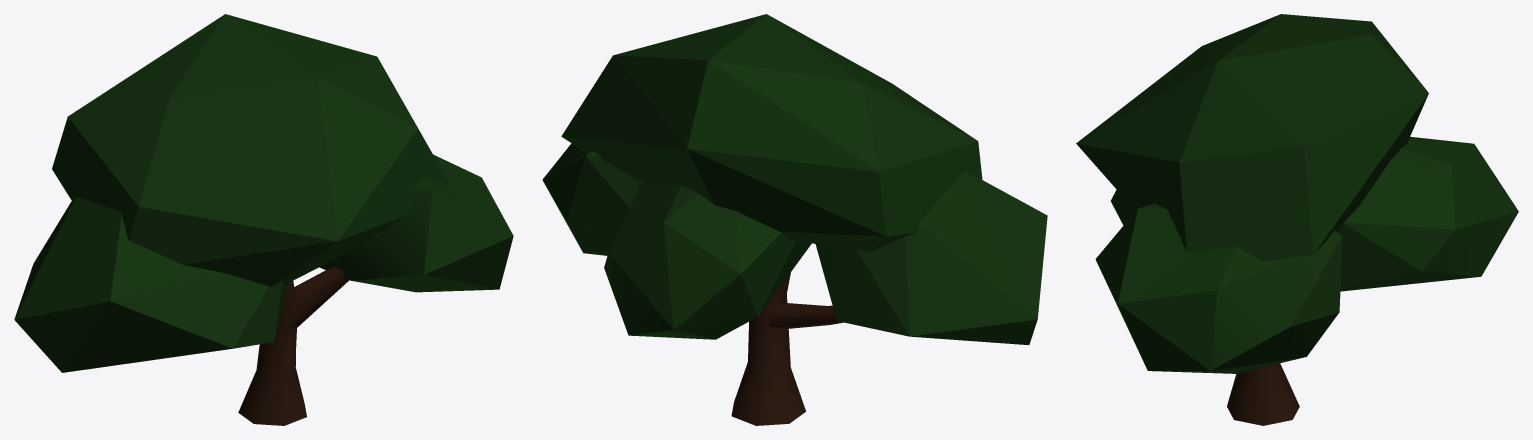
File: lib-tree-oak-big.fbx
3 renders of one model, left to right at view 1: azimuth 30°, elevation 25°; view 2: azimuth 150°, elevation 25°; view 3: azimuth 270°, elevation 25°, orthographic. The views are drawn at different scales.
Visible parts, largest first — view 1: pCylinder14; view 2: pCylinder14; view 3: pCylinder14.
Part boxes in pixels (left/top/right/bottom): pCylinder14: left=14, top=14, right=513, bottom=425; pCylinder14: left=542, top=14, right=1047, bottom=425; pCylinder14: left=1076, top=14, right=1518, bottom=425.
Bounding box in the file's own units: 24.18 × 18.17 × 19.34.
